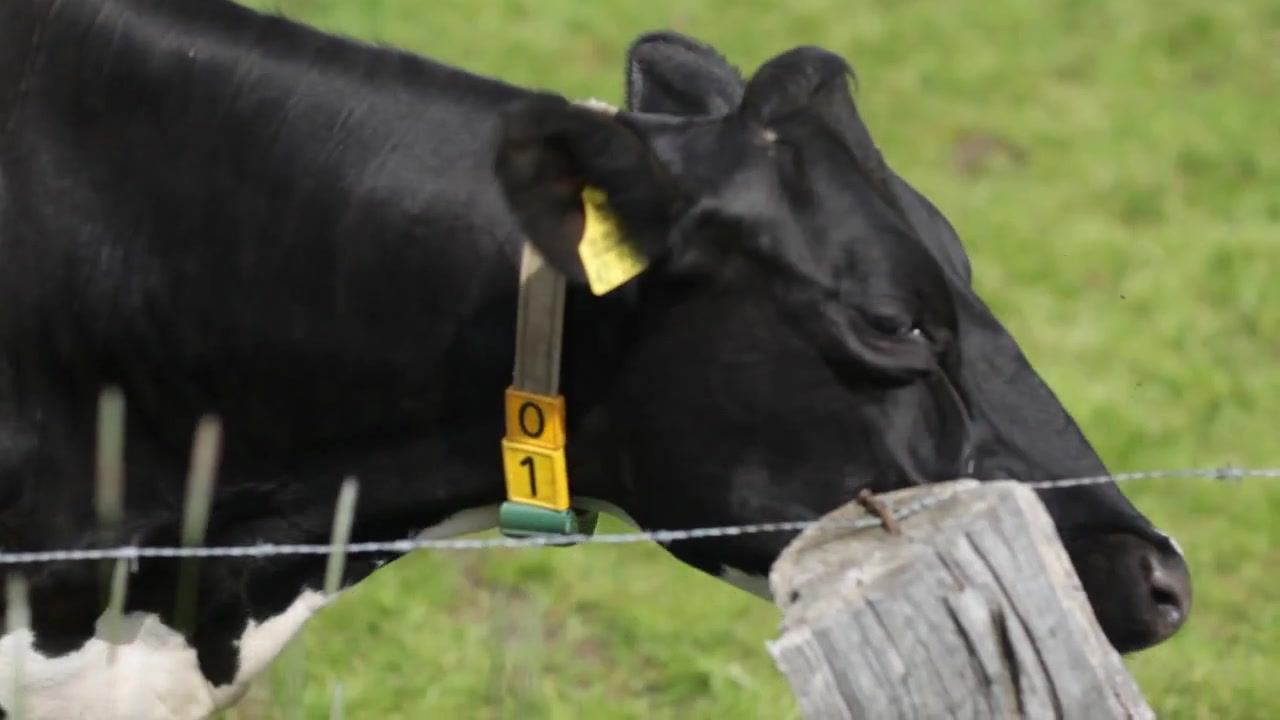cow: (1, 1, 1196, 720)
